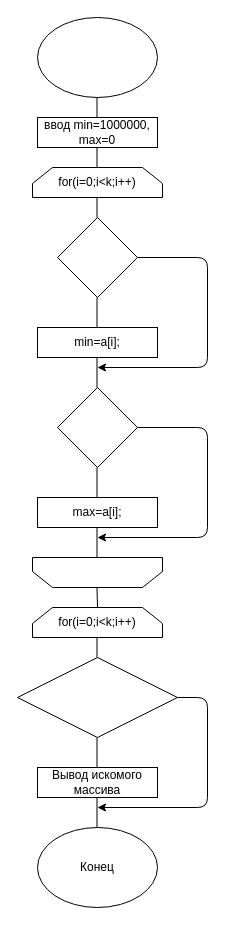
Image size: 233x925. Some labels were removed from this diagram. The shapes that lost their labels are listed below. From the top down, each one's centre as x and y in pixels, then its label:
At point (97, 57): "Начало".
At point (97, 257): "if a[i]<min)".
At point (97, 427): "if a[i]>max)".
At point (97, 697): "if ( (a[i]!=min && a[i]!=max)".
